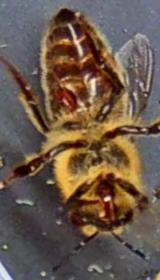varroa_mite: (47, 80, 84, 120)
